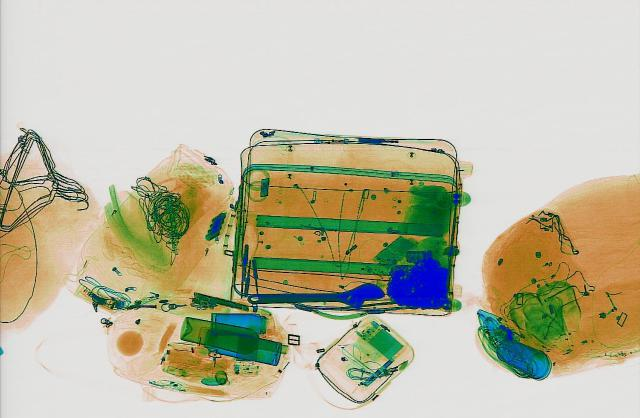Wrench: (246, 280, 384, 312)
